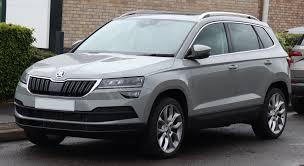skoda: (53, 67, 65, 81)
